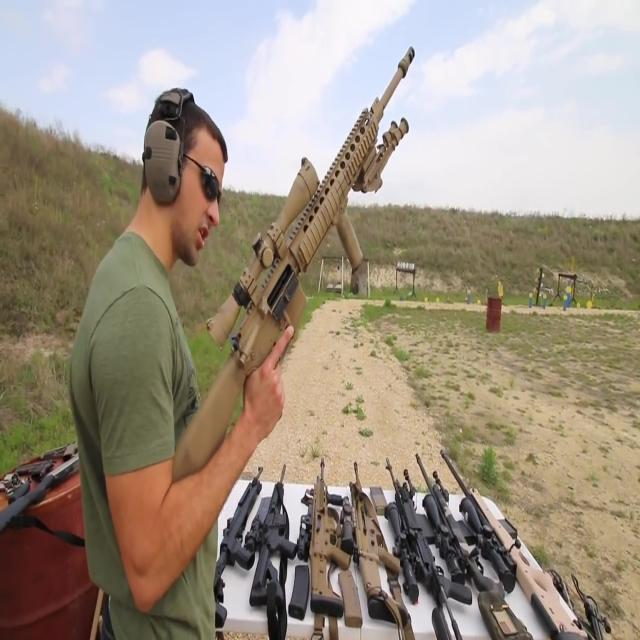Weapon: (175, 12, 438, 595), (205, 452, 591, 640), (0, 382, 160, 569)
